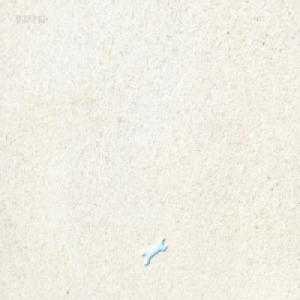Wrench: (142, 237, 166, 266)
